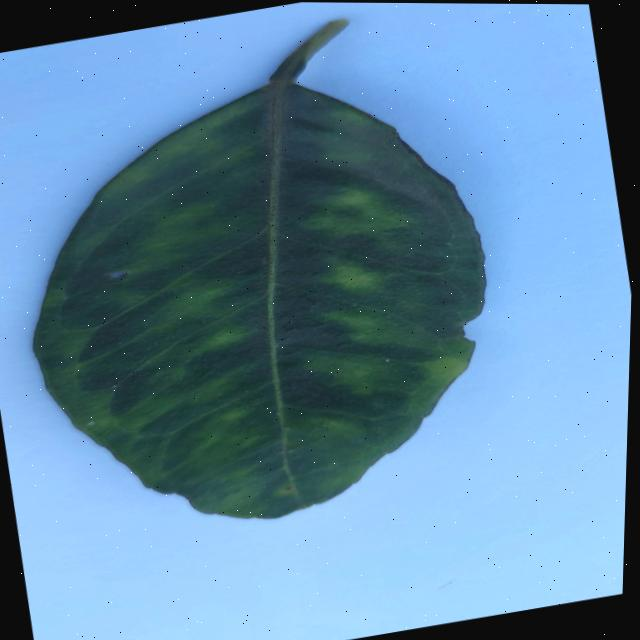greening: (34, 19, 483, 516)
